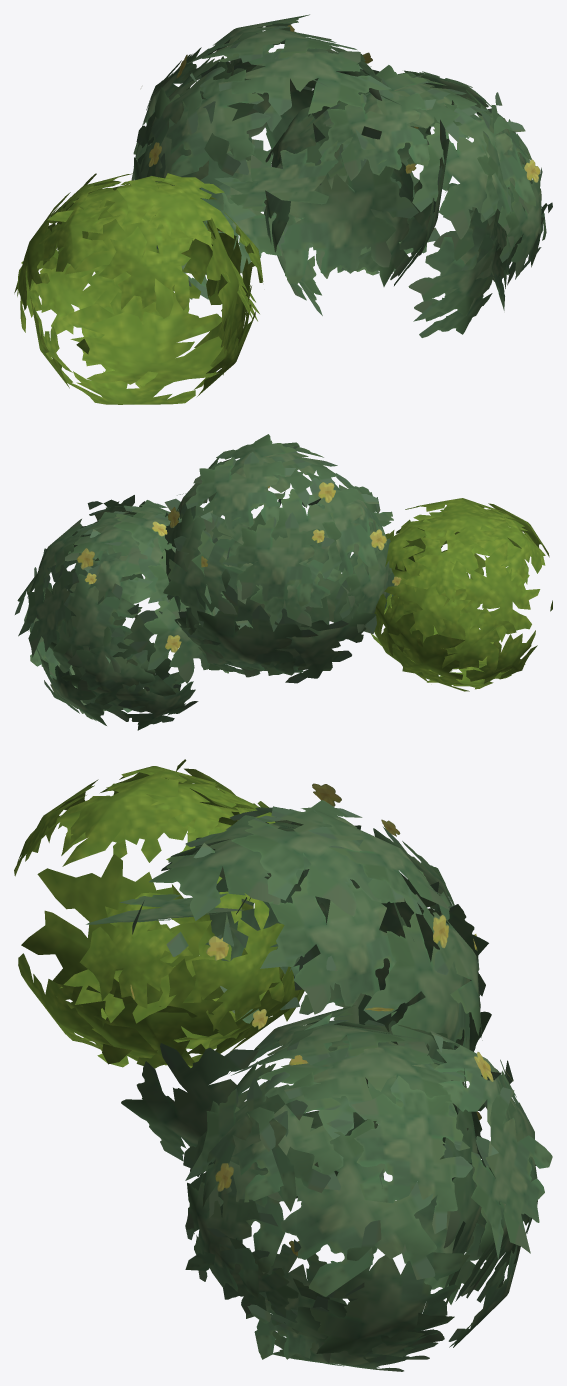
File: pref_sm_beach_bk_pointmol_grassplant07_lv1.fbx
3 views of the same model, one above another, from view 1: azimuth 30°, elevation 25°; view 2: azimuth 150°, elevation 25°; view 3: azimuth 270°, elevation 25° (orthographic). The views are drawn at different scales.
Parts seen in each view (by area): view 1: pref_sm_beach_bk_pointmol_grassplant07_lv1; view 2: pref_sm_beach_bk_pointmol_grassplant07_lv1; view 3: pref_sm_beach_bk_pointmol_grassplant07_lv1.
Boxes of the visible parts, x1,y1,x2,y2 form: pref_sm_beach_bk_pointmol_grassplant07_lv1: (14,14,552,404); pref_sm_beach_bk_pointmol_grassplant07_lv1: (15,434,552,730); pref_sm_beach_bk_pointmol_grassplant07_lv1: (14,759,552,1371).
Size of the model in its own units: 7.64 by 4.58 by 4.99.
